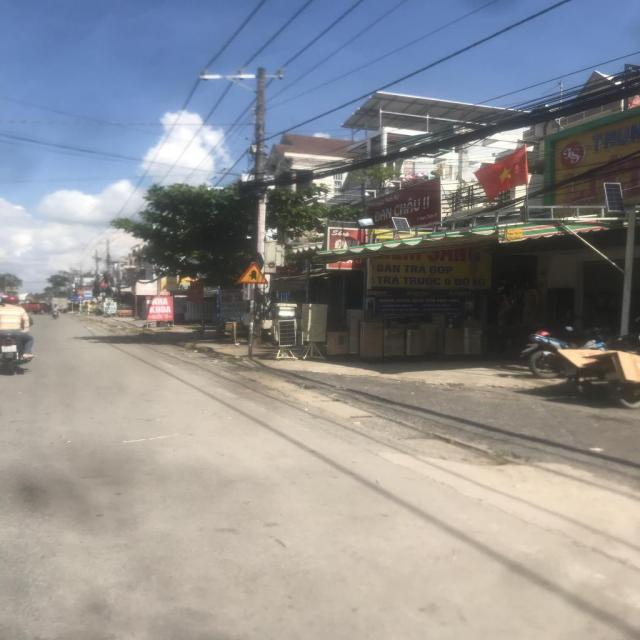cho: (78, 294, 84, 300)
chu_y_nguoi_di_bo_cat_ngang: (77, 289, 84, 294)
giao_nhau_voi_duong_khong_uu_tien: (235, 261, 270, 285)
khac: (84, 290, 93, 300)
